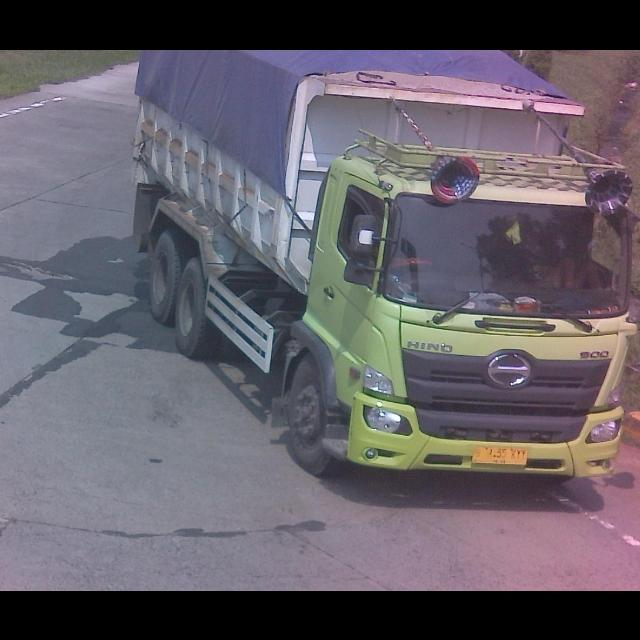plate: (472, 439, 532, 466)
